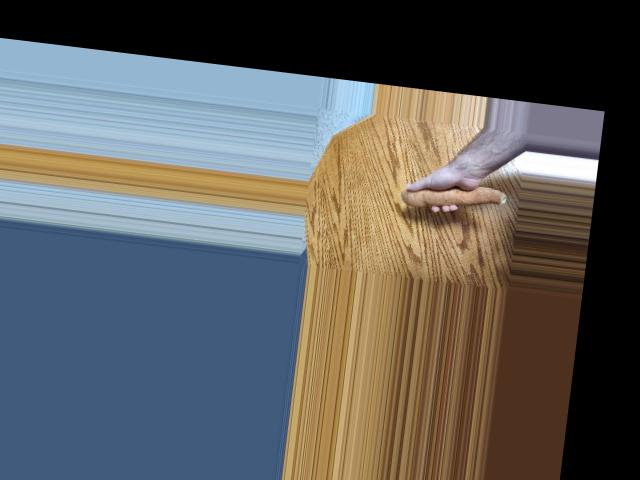sweet_potato: (401, 174, 507, 221)
